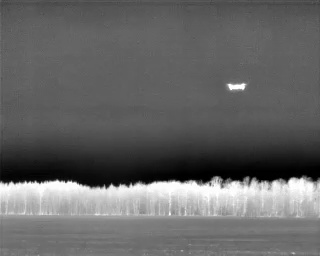DRONE: (223, 77, 250, 95)
